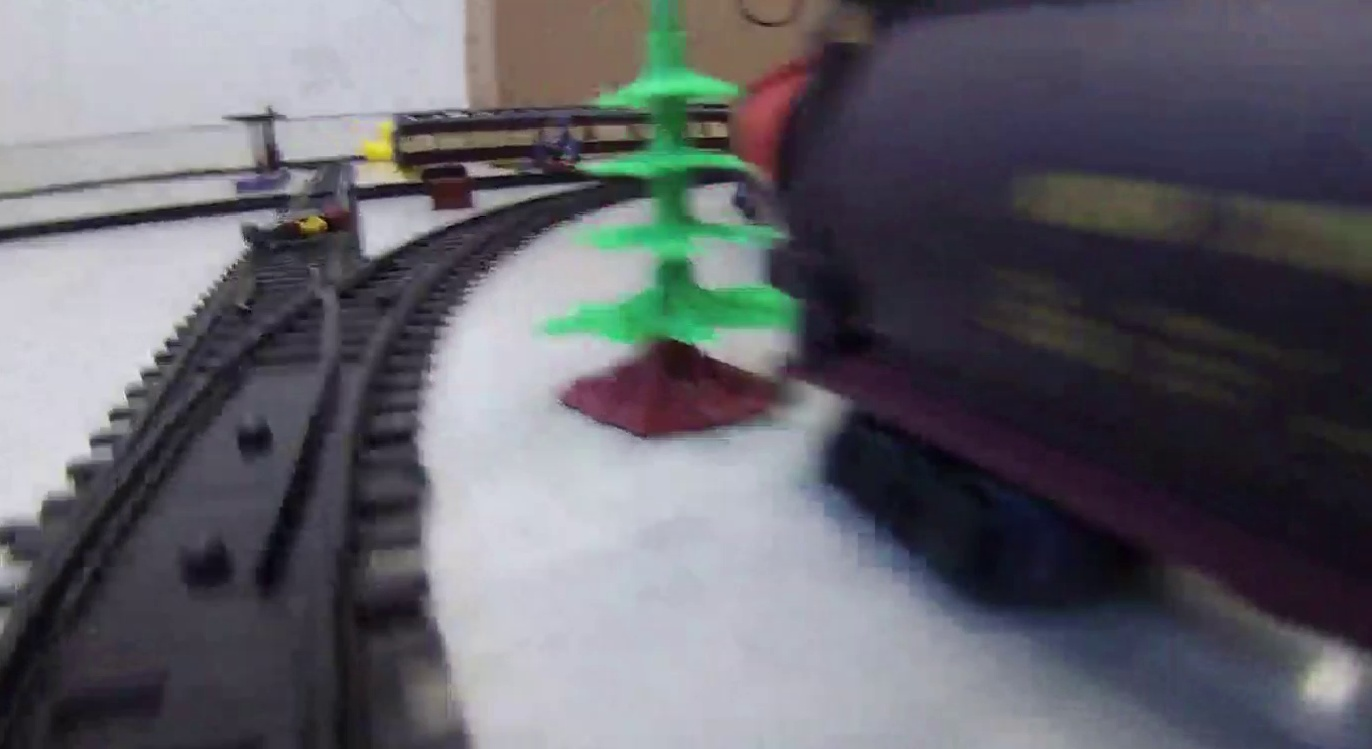tree: (539, 3, 799, 431)
